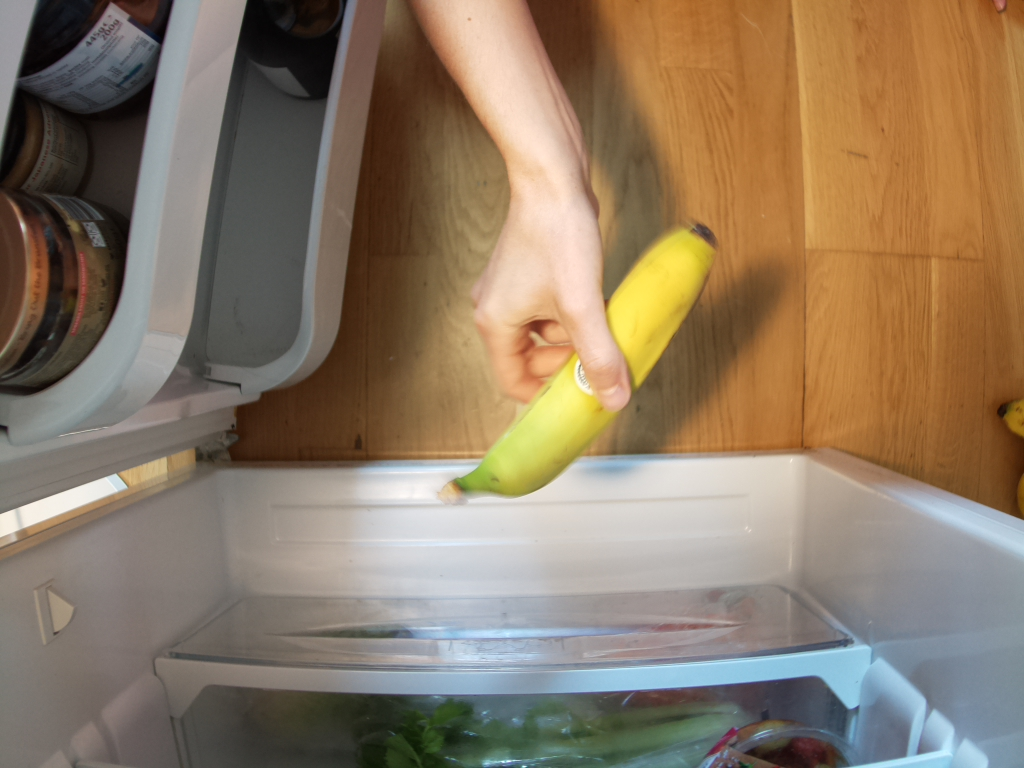banana-unripe: (440, 214, 719, 508)
